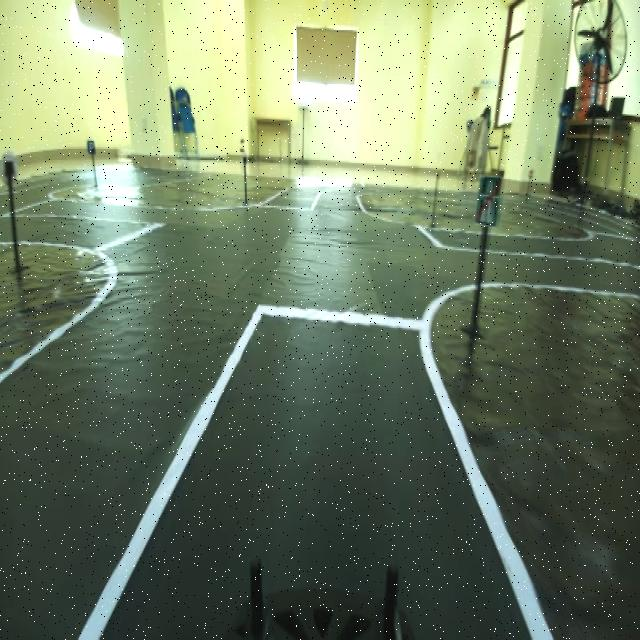highway_exit: (474, 170, 502, 229)
